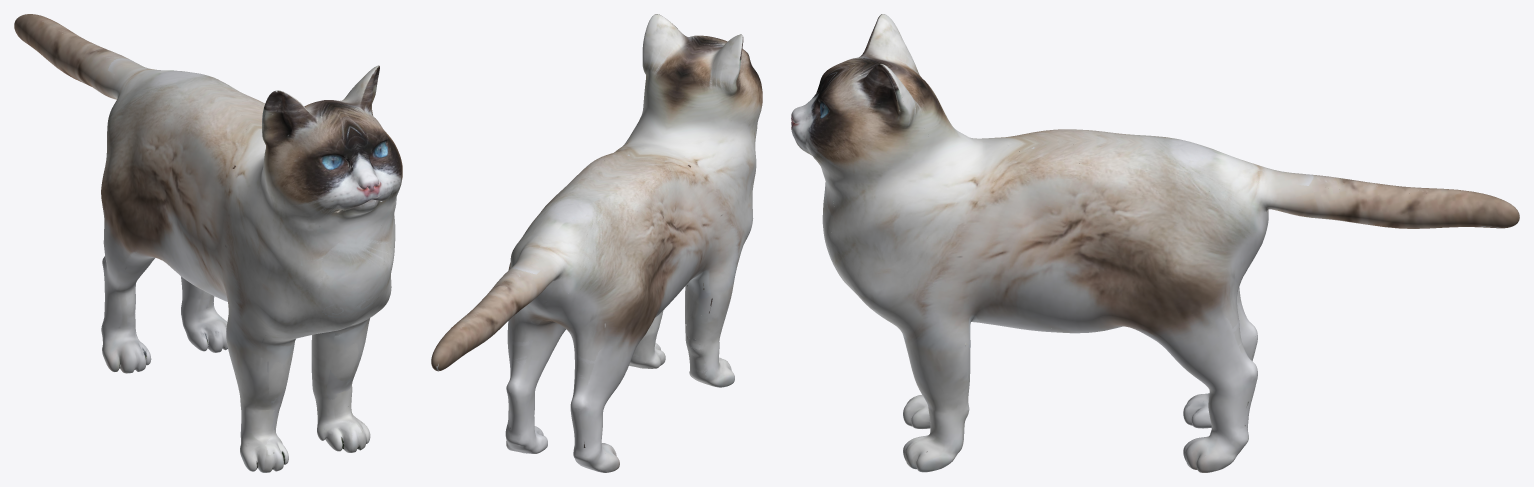
The model's file is Birman.glb.
The picture shows the model from 3 angles, left to right: view 1: azimuth 30°, elevation 25°; view 2: azimuth 150°, elevation 25°; view 3: azimuth 270°, elevation 25°; orthographic projection. The views are drawn at different scales.
Visible parts, largest first — view 1: Cat_Base_1.002; view 2: Cat_Base_1.002; view 3: Cat_Base_1.002.
Boxes of the visible parts, <box> form: Cat_Base_1.002: <box>14,14,402,472</box>; Cat_Base_1.002: <box>431,14,762,472</box>; Cat_Base_1.002: <box>791,14,1519,472</box>.
Bounding box in the file's own units: 1.54 × 3.78 × 6.17.
1 material, 1 textured.
